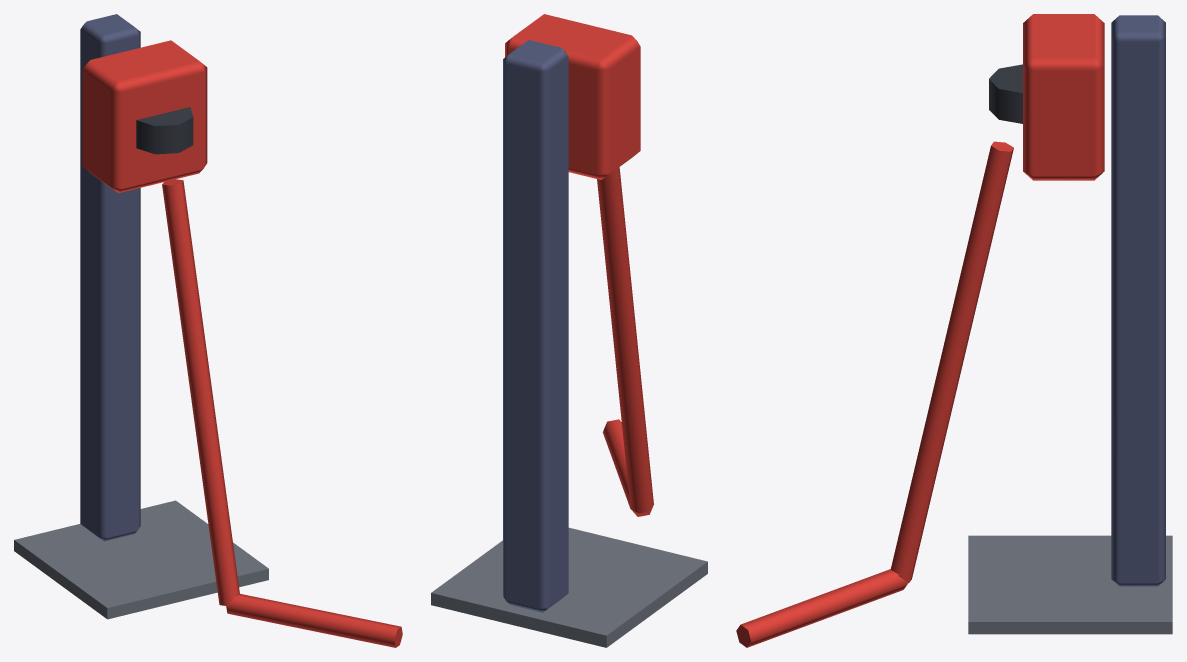
Rendered from station_intake_ausstattung_1_1.glb.
3 views of the same model, side by side, from view 1: azimuth 30°, elevation 25°; view 2: azimuth 150°, elevation 25°; view 3: azimuth 270°, elevation 25° (orthographic). The views are drawn at different scales.
Visible parts, largest first — view 1: station_intake_ausstattung_1_1; view 2: station_intake_ausstattung_1_1; view 3: station_intake_ausstattung_1_1.
Boxes of the visible parts, x1=… form: station_intake_ausstattung_1_1: x1=14, y1=14, x2=402, y2=647; station_intake_ausstattung_1_1: x1=431, y1=14, x2=707, y2=647; station_intake_ausstattung_1_1: x1=736, y1=14, x2=1172, y2=647.
Size of the model in its own units: 0.364 by 0.92 by 0.6411.
